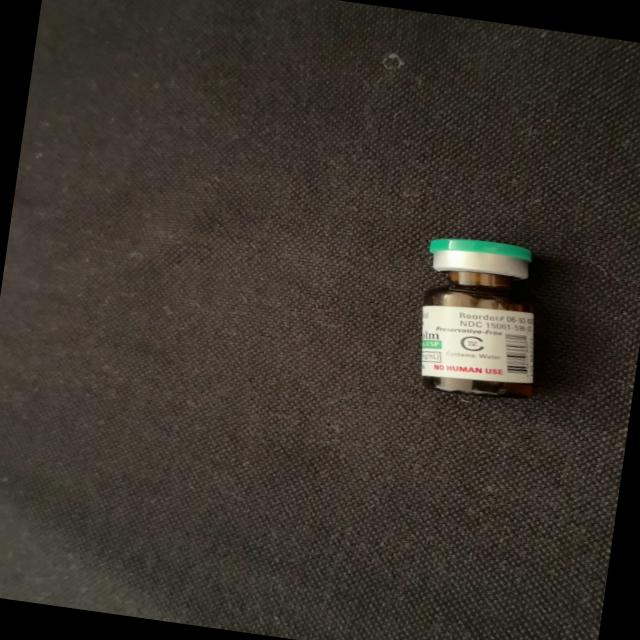midazolm: (411, 235, 552, 400)
